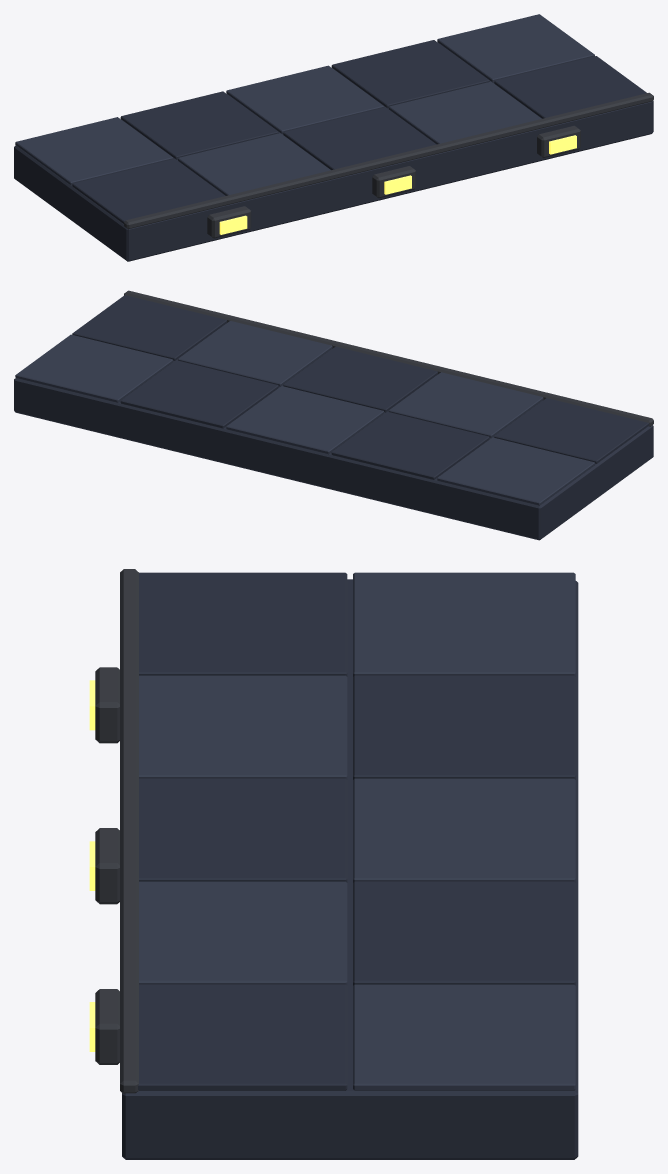
The model's file is riser.glb.
3 renders of one model, top to bottom at view 1: azimuth 30°, elevation 25°; view 2: azimuth 150°, elevation 25°; view 3: azimuth 270°, elevation 25°, orthographic. The views are drawn at different scales.
Visible parts, largest first — view 1: riser; view 2: riser; view 3: riser.
Boxes of the visible parts, left/top/right/bottom form: riser: left=14, top=14, right=653, bottom=261; riser: left=14, top=290, right=653, bottom=540; riser: left=89, top=569, right=578, bottom=1159.
Size of the model in its own units: 3.2 by 0.23 by 1.29.
